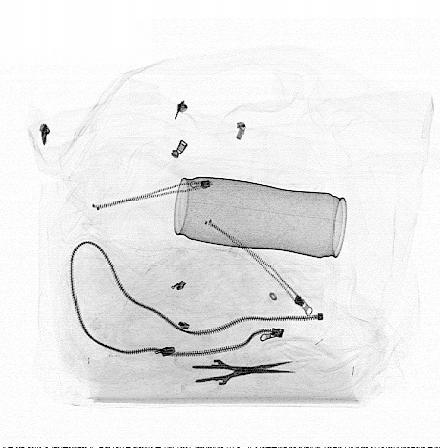Scissors: (167, 346, 300, 401)
